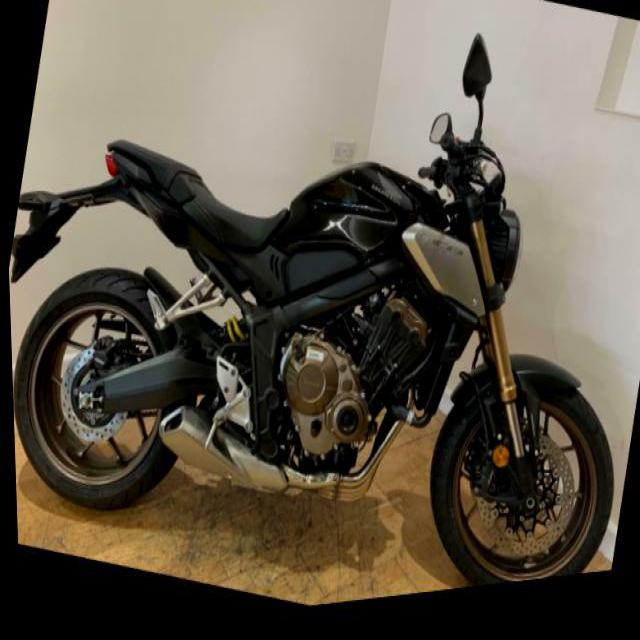CB650R: (2, 32, 640, 639)
